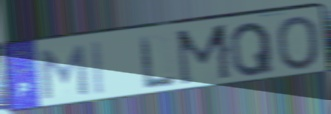I: (92, 39, 107, 98)
L: (137, 34, 178, 92)
M: (175, 22, 235, 88), (38, 42, 90, 102)
O: (274, 14, 322, 72)
Q: (229, 20, 276, 79)
